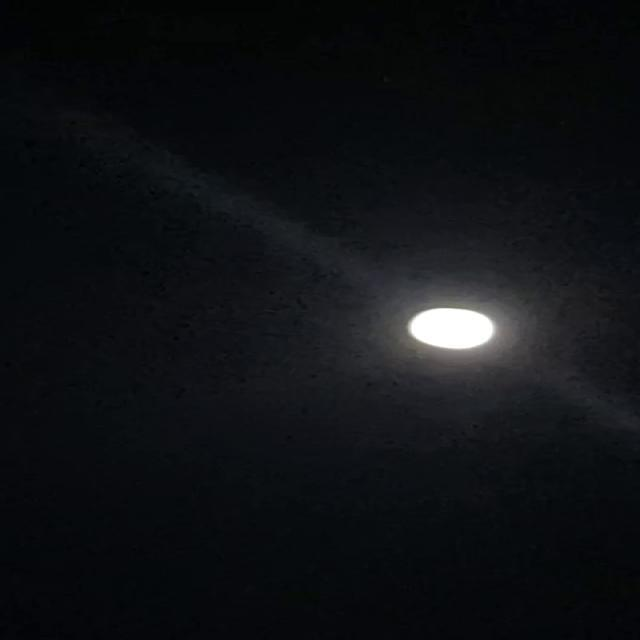moon: (393, 292, 520, 362)
